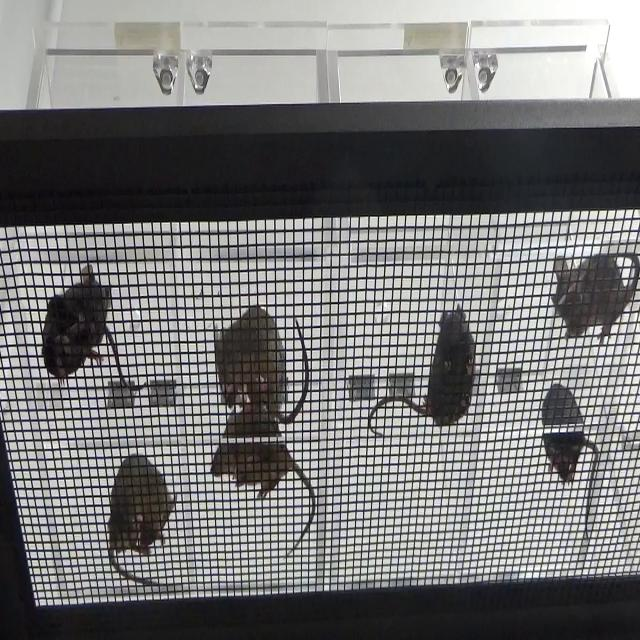lick tail: (40, 258, 150, 413)
